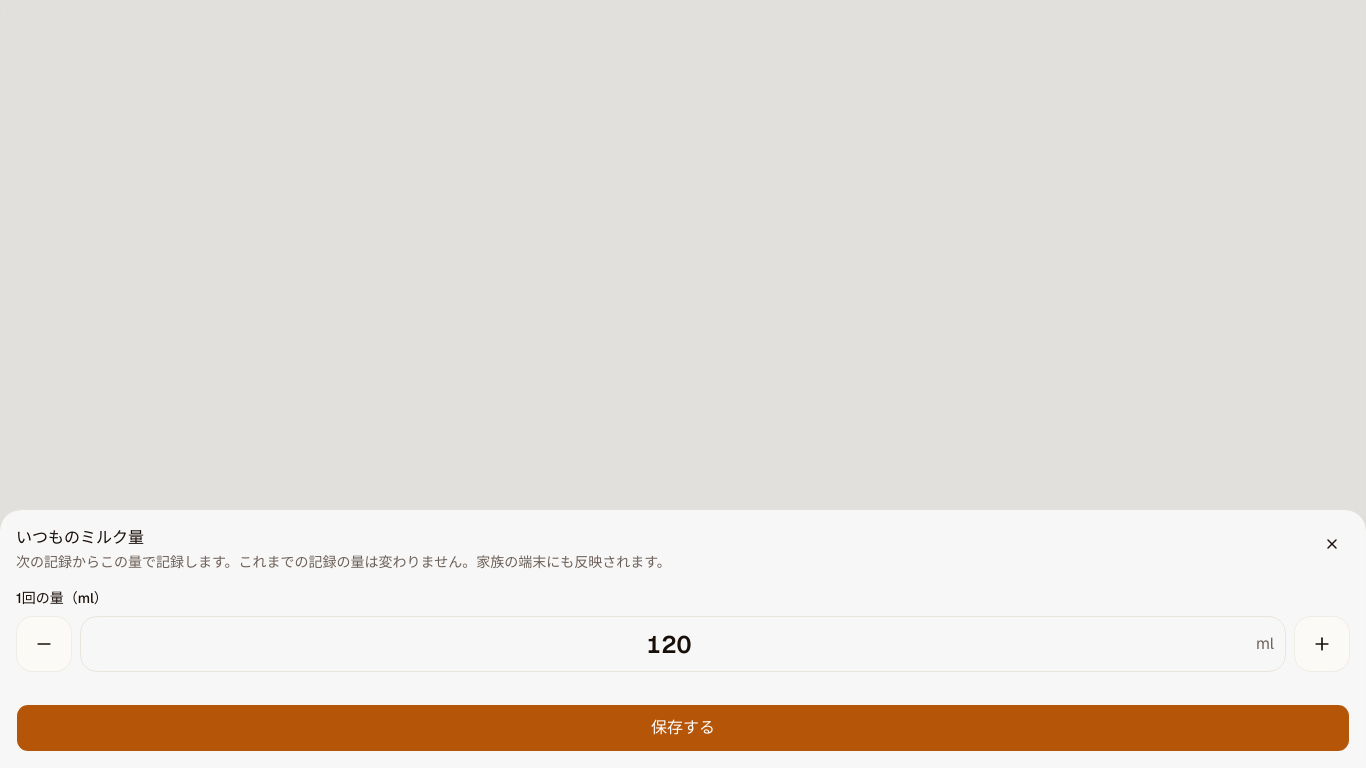
Test case: BottleDefaultSheet の入力（Base UI Number Field） › 増減ボタンは 10ml ずつ動かす
Step 1. Click the button named "10ml増やす" → click(1322, 644), box [1294,616,1350,672]
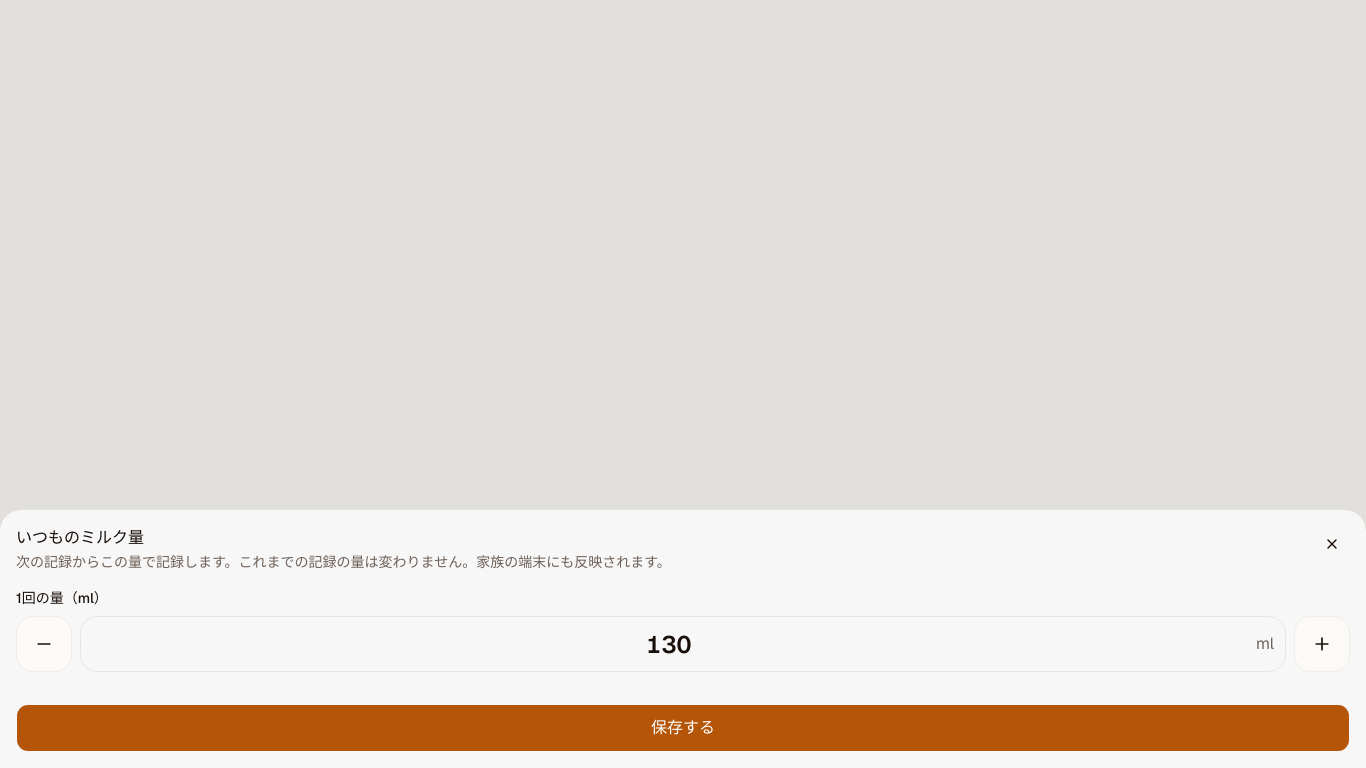
Step 2. Click the button named "10ml増やす" → click(1322, 644), box [1294,616,1350,672]
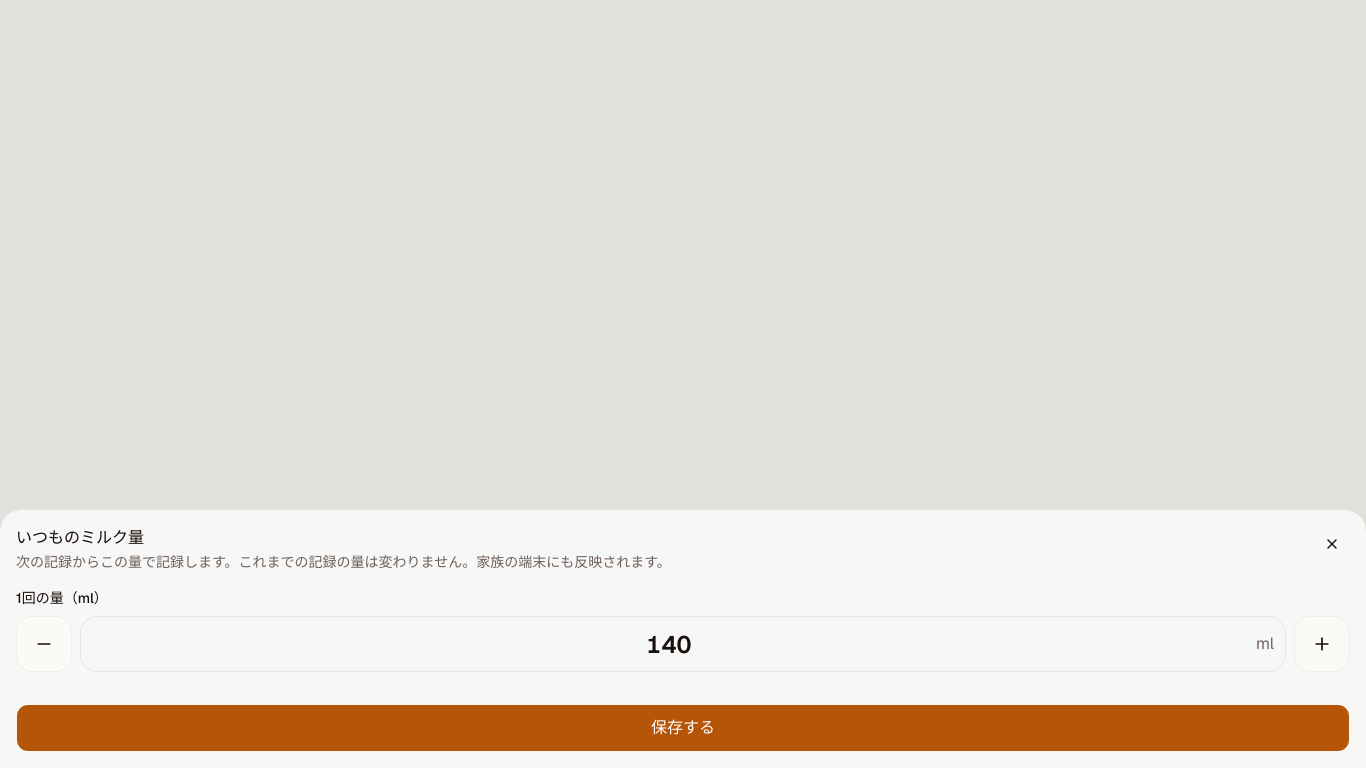
Now the field labelled "1回の量（ml）" holds "140", box [80,616,1286,672]
Step 3. Click the button named "10ml減らす" → click(44, 644), box [16,616,72,672]
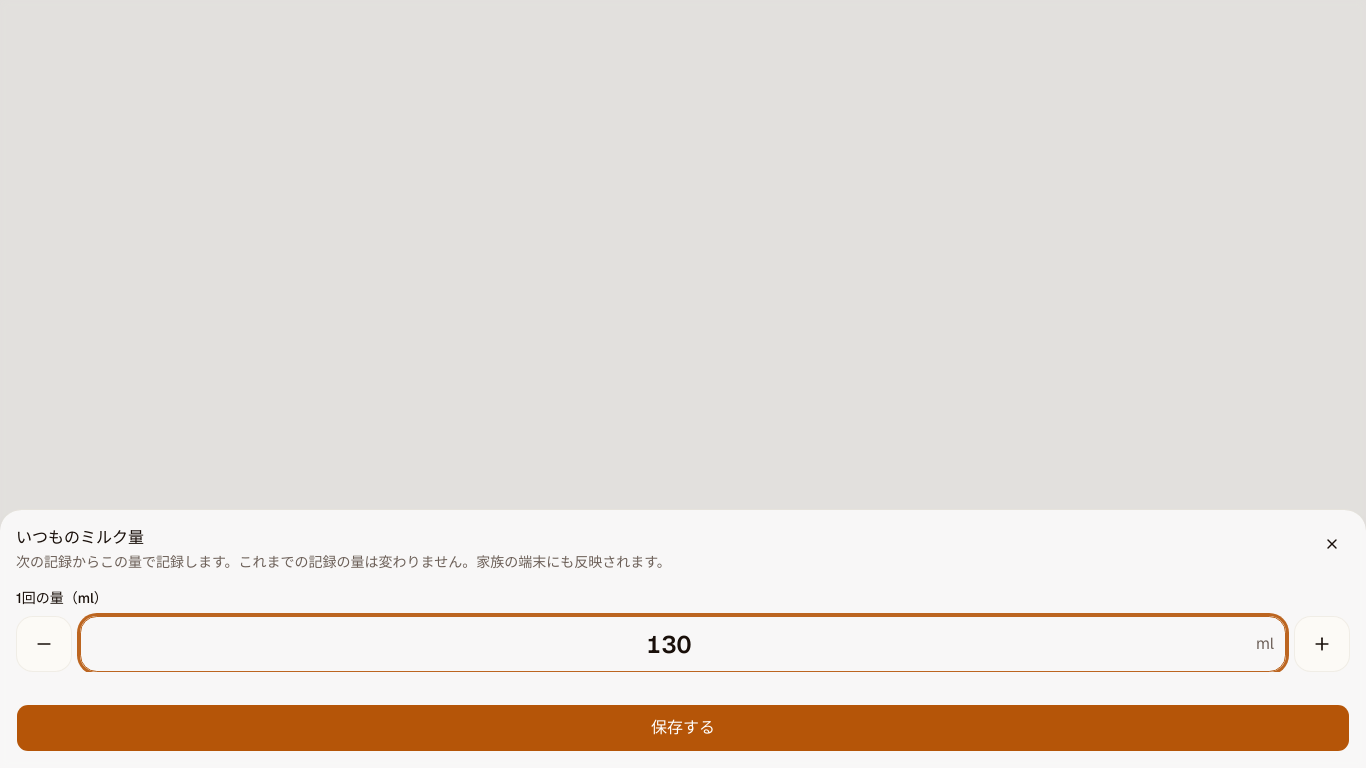
Now the field labelled "1回の量（ml）" holds "130", box [80,616,1286,672]
